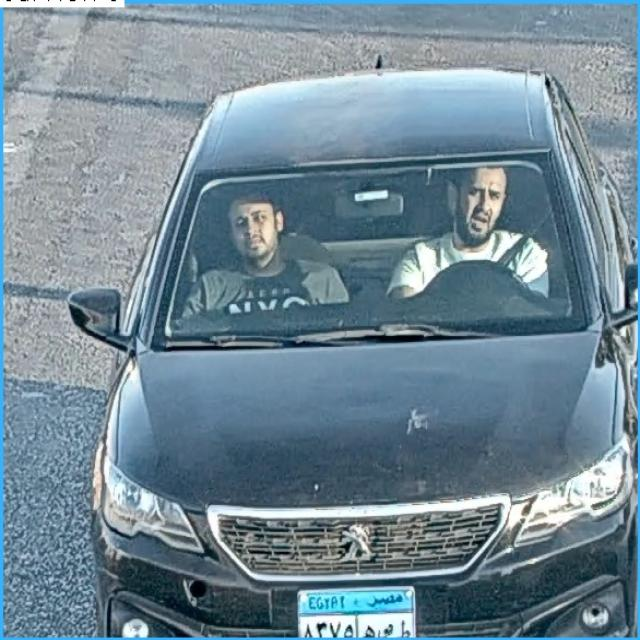windshield: (154, 161, 580, 336)
